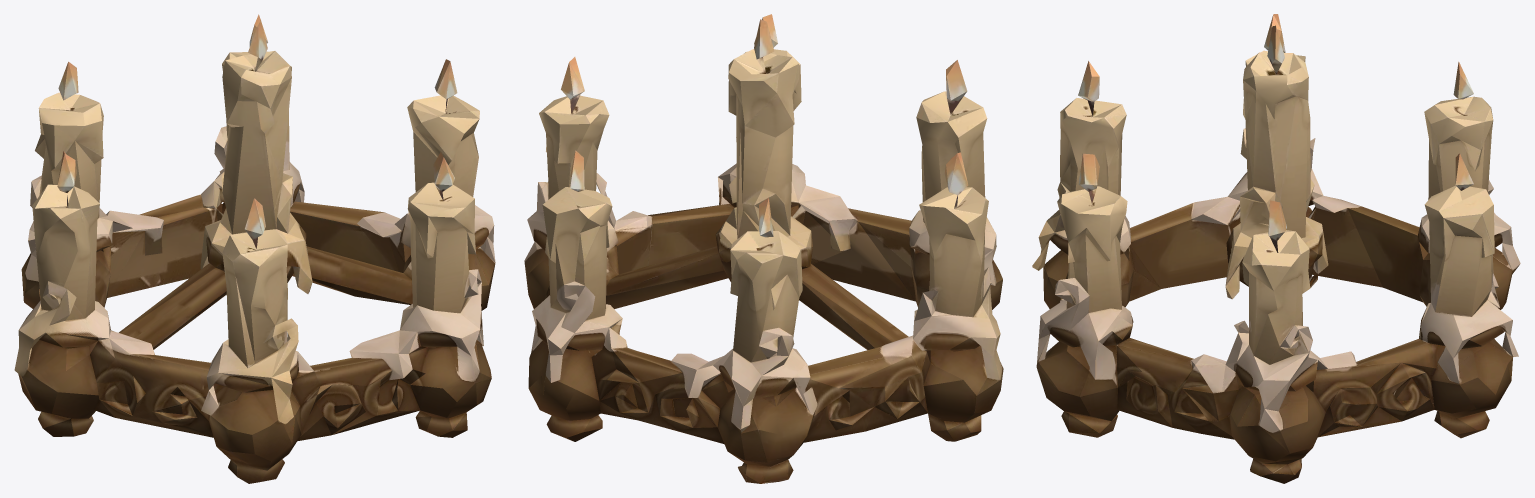
Rendered from chandelier.glb.
The picture shows the model from 3 angles, left to right: view 1: azimuth 30°, elevation 25°; view 2: azimuth 150°, elevation 25°; view 3: azimuth 270°, elevation 25°; orthographic projection.
Bounding box in the file's own units: 1.89 × 1.4 × 1.7.
1 material, 1 textured.
